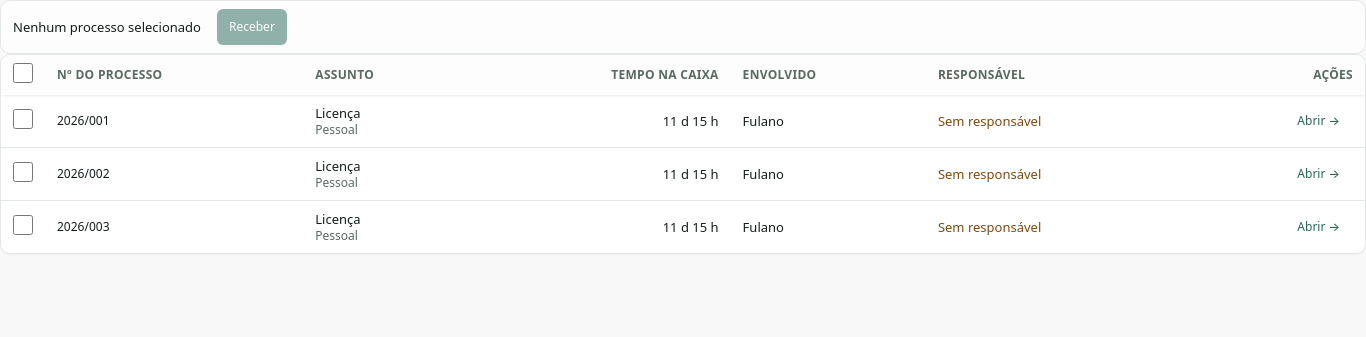
Test: ações em lote › receber em lote manda os selecionados e mostra o que falhou, com o número
Click the checkbox named "Selecionar 2026/001" at (23, 119), box 13,109 -> 33,129
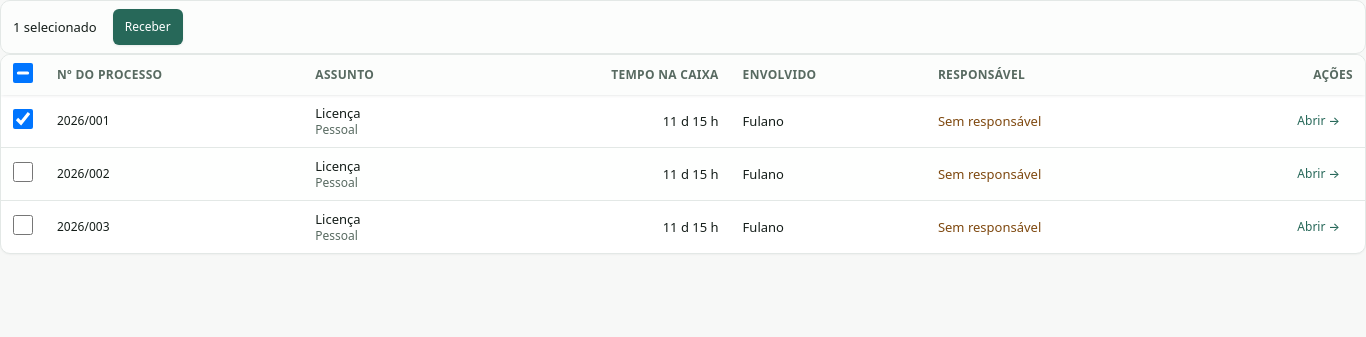
Click the checkbox named "Selecionar 2026/003" at (23, 225), box 13,215 -> 33,235
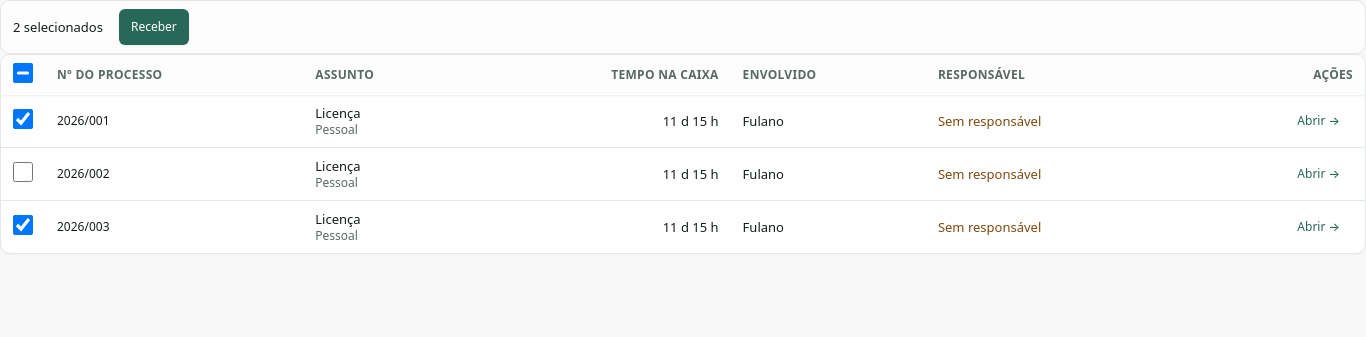
Click the button "Receber" at (154, 27), box 119,9 -> 189,45
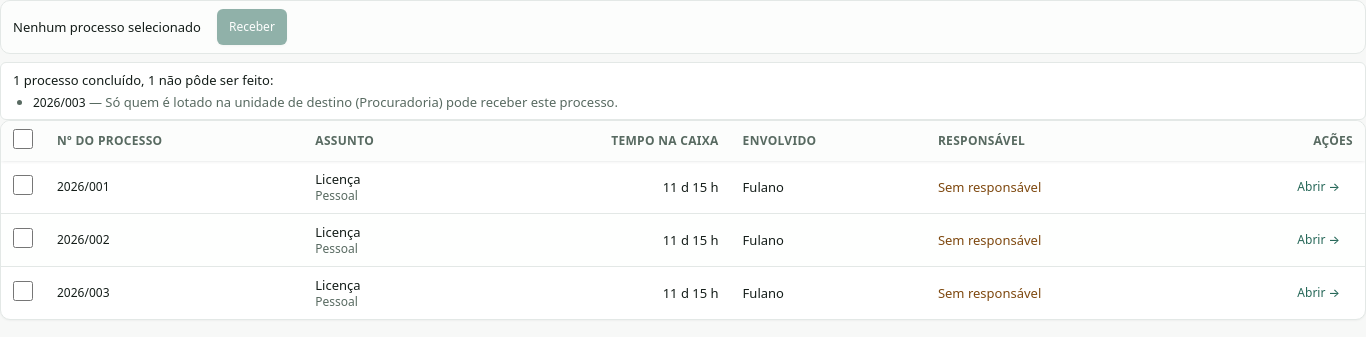
Check: the message shows "1 processo concluído, 1 não pôde ser feito:", box 0,62 -> 1365,120
Check: the text "2026/003" is shown, box 33,94 -> 86,111
Check: the message shows "unidade de destino (Procuradoria)", box 105,93 -> 618,111
